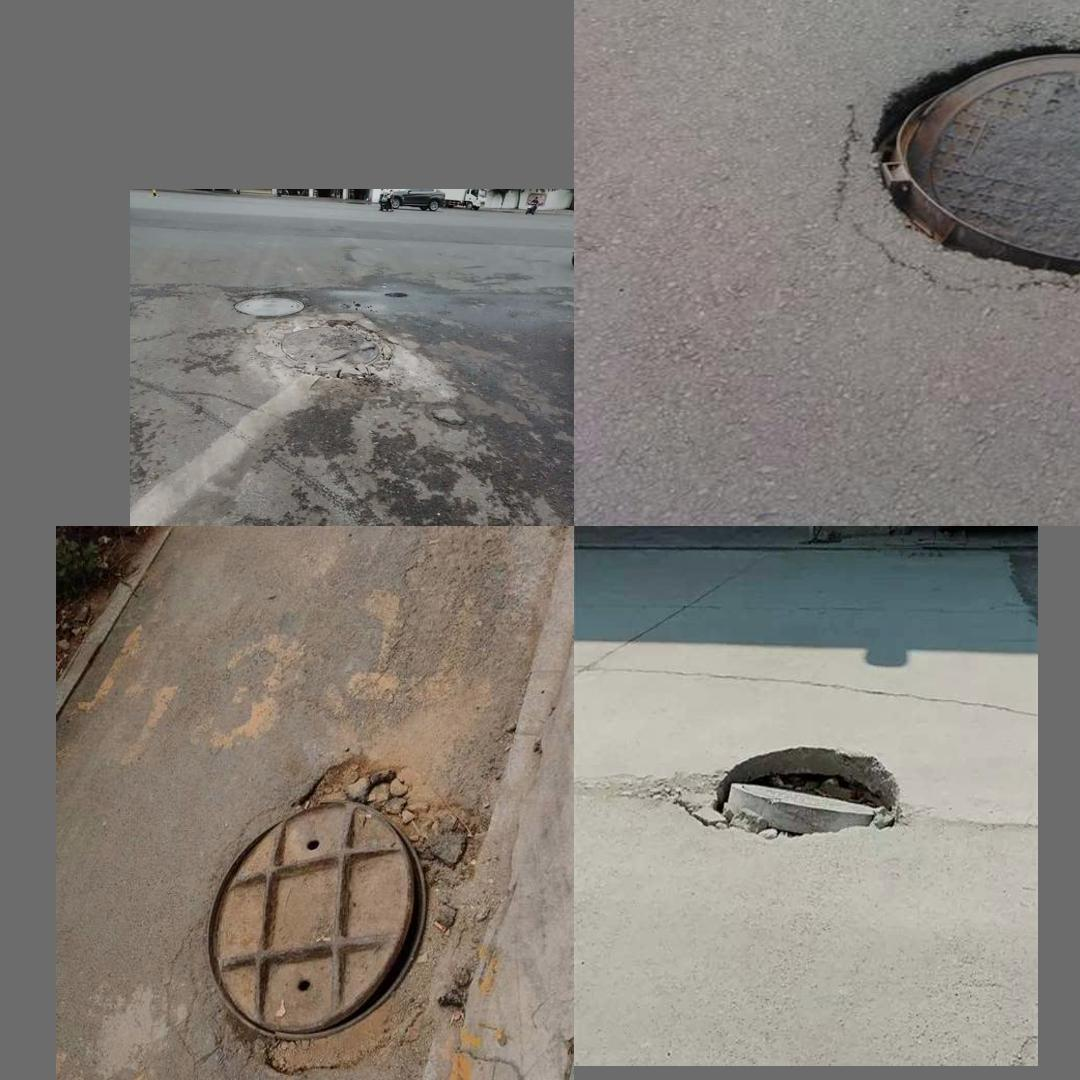circle: (184, 726, 515, 1080), (806, 23, 1080, 296), (648, 733, 921, 866), (258, 313, 429, 408)
